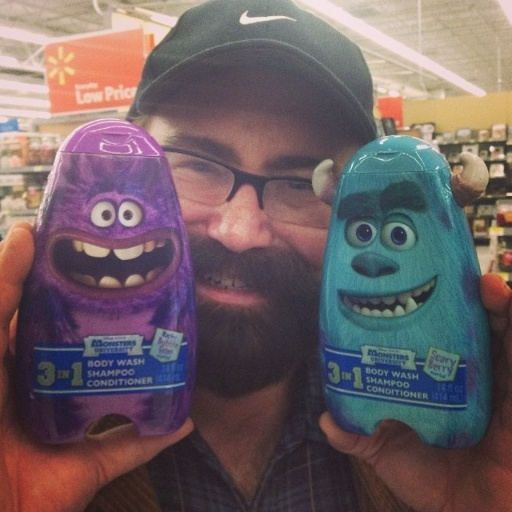hand: (0, 220, 193, 511), (317, 271, 511, 511)
